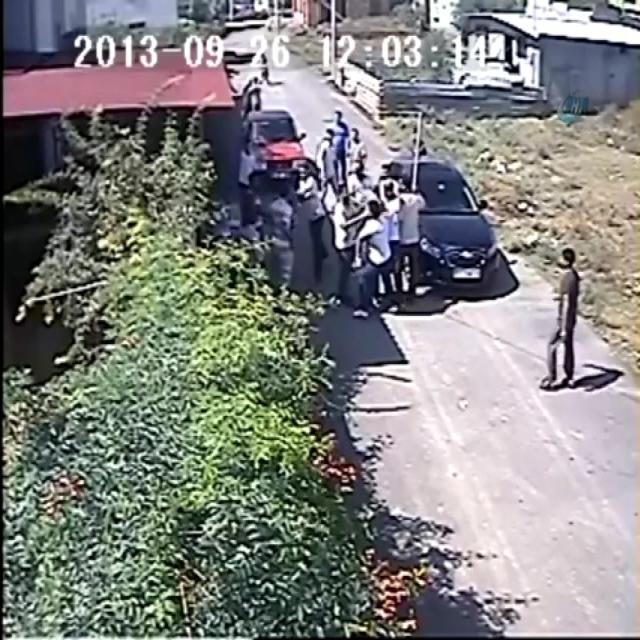fight: (335, 196, 384, 318), (382, 179, 422, 304), (293, 173, 324, 303), (317, 128, 367, 198)
